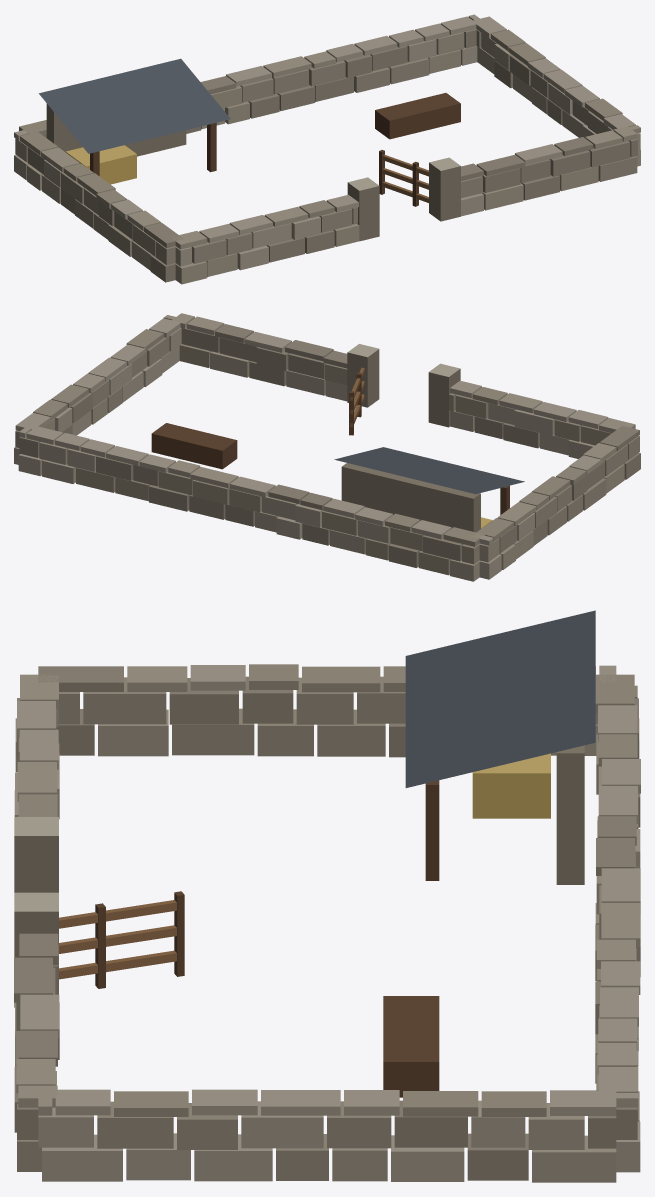
Rendered from fold.glb.
The picture shows the model from 3 angles, top to bottom: view 1: azimuth 30°, elevation 25°; view 2: azimuth 150°, elevation 25°; view 3: azimuth 270°, elevation 25°; orthographic projection. The views are drawn at different scales.
Visible parts, largest first — view 1: fold; view 2: fold; view 3: fold.
Boxes of the visible parts, x1,y1,x2,y2 form: fold: (14, 14, 640, 284); fold: (14, 313, 640, 581); fold: (14, 610, 640, 1182).
Size of the model in its own units: 9.4 by 1.45 by 5.61.
